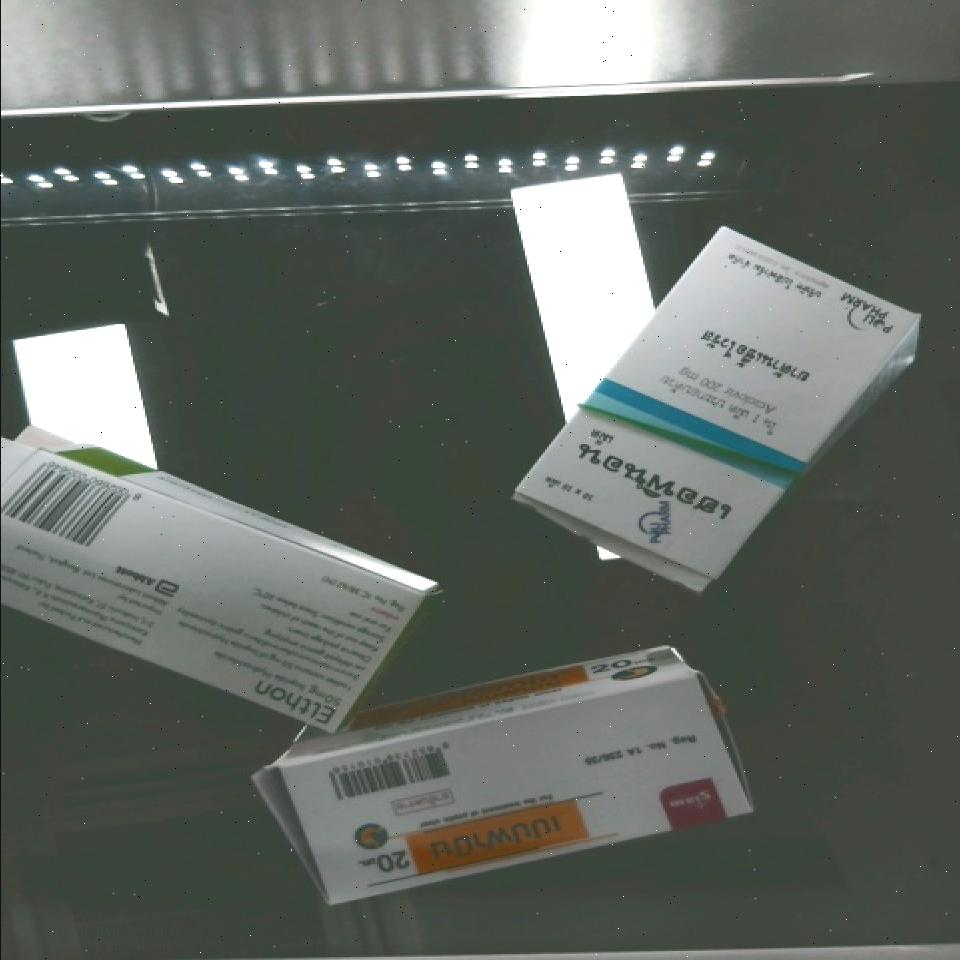medicine_box: (512, 184, 921, 622), (0, 439, 432, 747), (275, 660, 751, 907)
medicine_label_obb: (542, 411, 771, 555), (335, 794, 590, 894), (233, 662, 352, 733)
